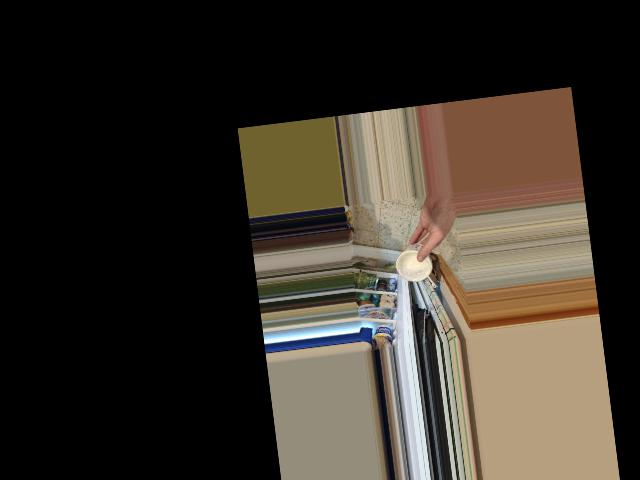cotage: (397, 238, 437, 285)
